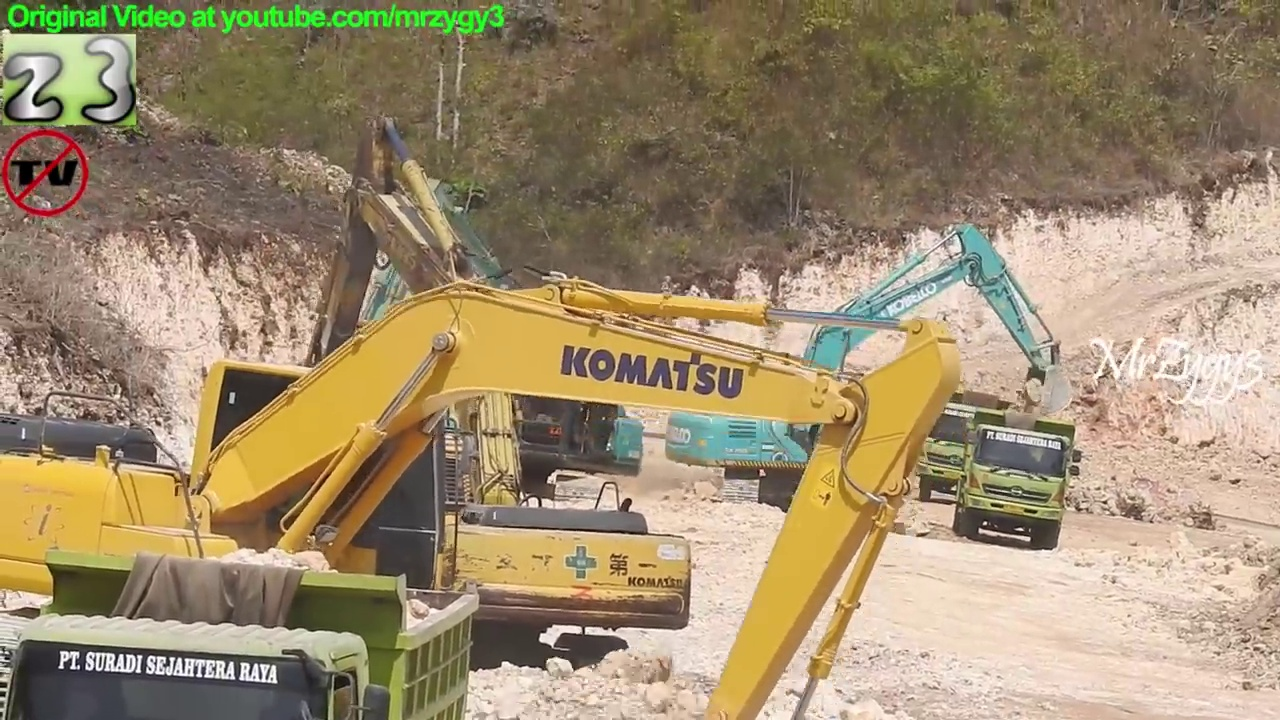excavator: (1, 259, 967, 720), (243, 109, 698, 698), (660, 216, 1084, 527), (307, 169, 653, 531)
truck: (1, 545, 486, 720), (950, 398, 1086, 555), (899, 382, 1037, 509)
